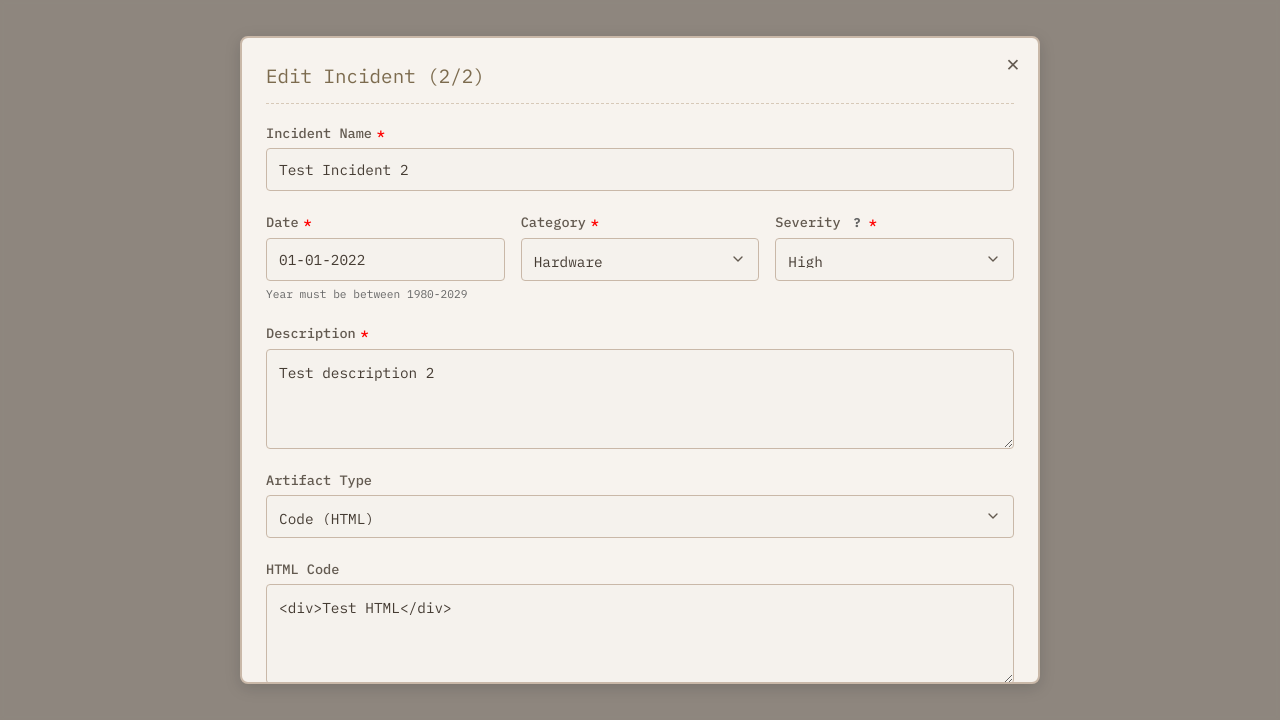
Test: IncidentModals › Edit Incident Modal › handles artifact type changes
expect the text box labelled "HTML Code" is shown: met, box [266, 584, 1014, 684]
Select "Image" in the dropdown labelled "Artifact Type" at (640, 516), box [266, 495, 1014, 538]
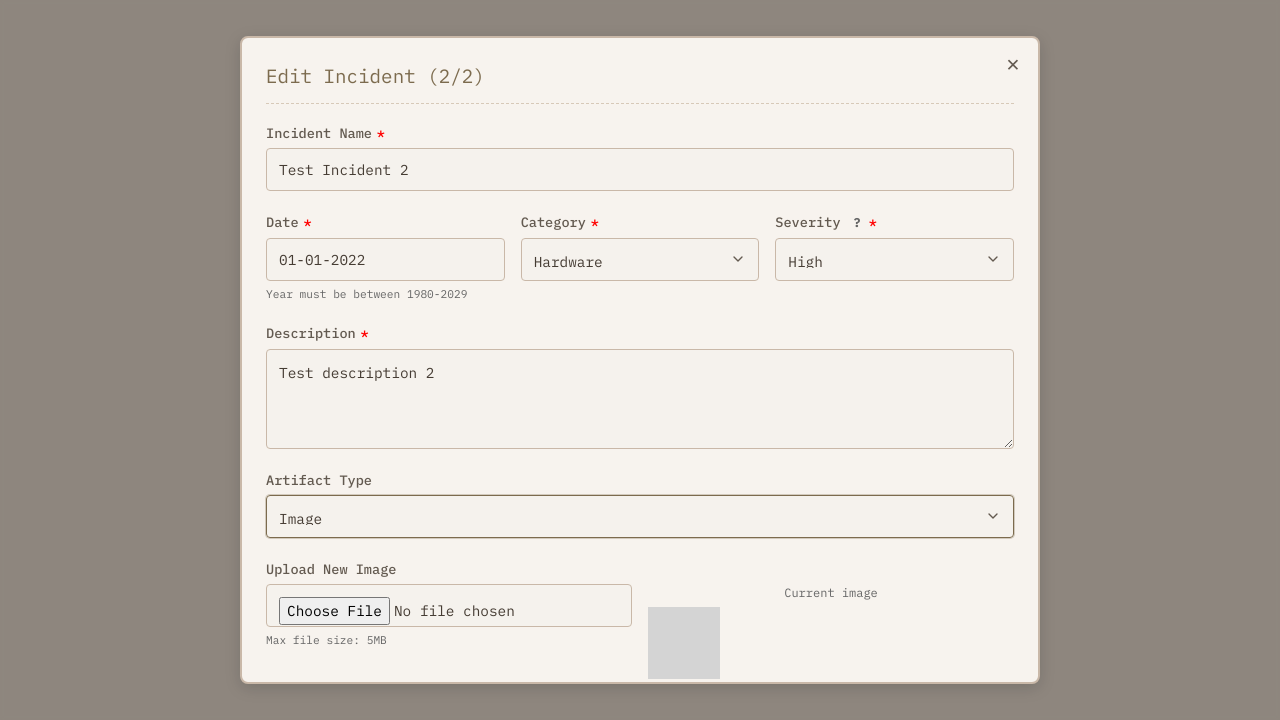
expect the file field labelled "Upload New Image" is shown: met, box [266, 584, 632, 627]
expect the label labelled "HTML Code" is gone: met
Select "None" in the dropdown labelled "Artifact Type" at (640, 516), box [266, 495, 1014, 538]
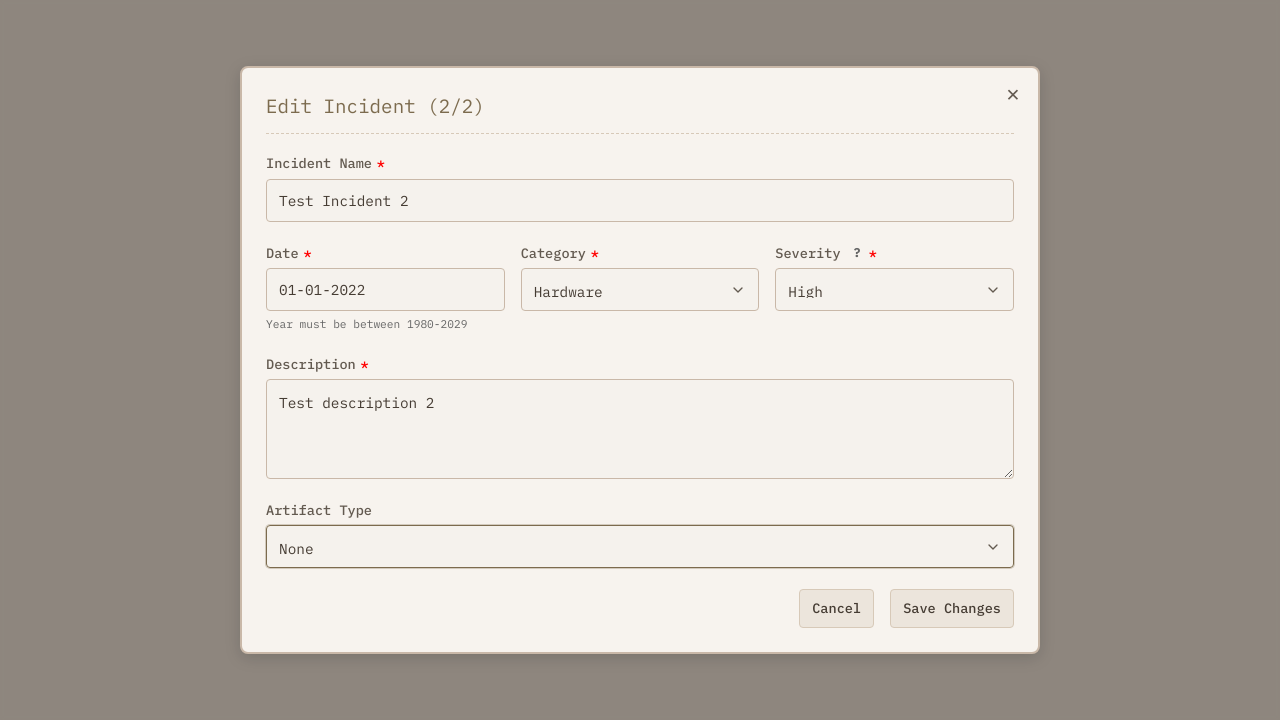
expect the label labelled "HTML Code" is not shown: met
expect the label labelled "Upload New Image" is gone: met
